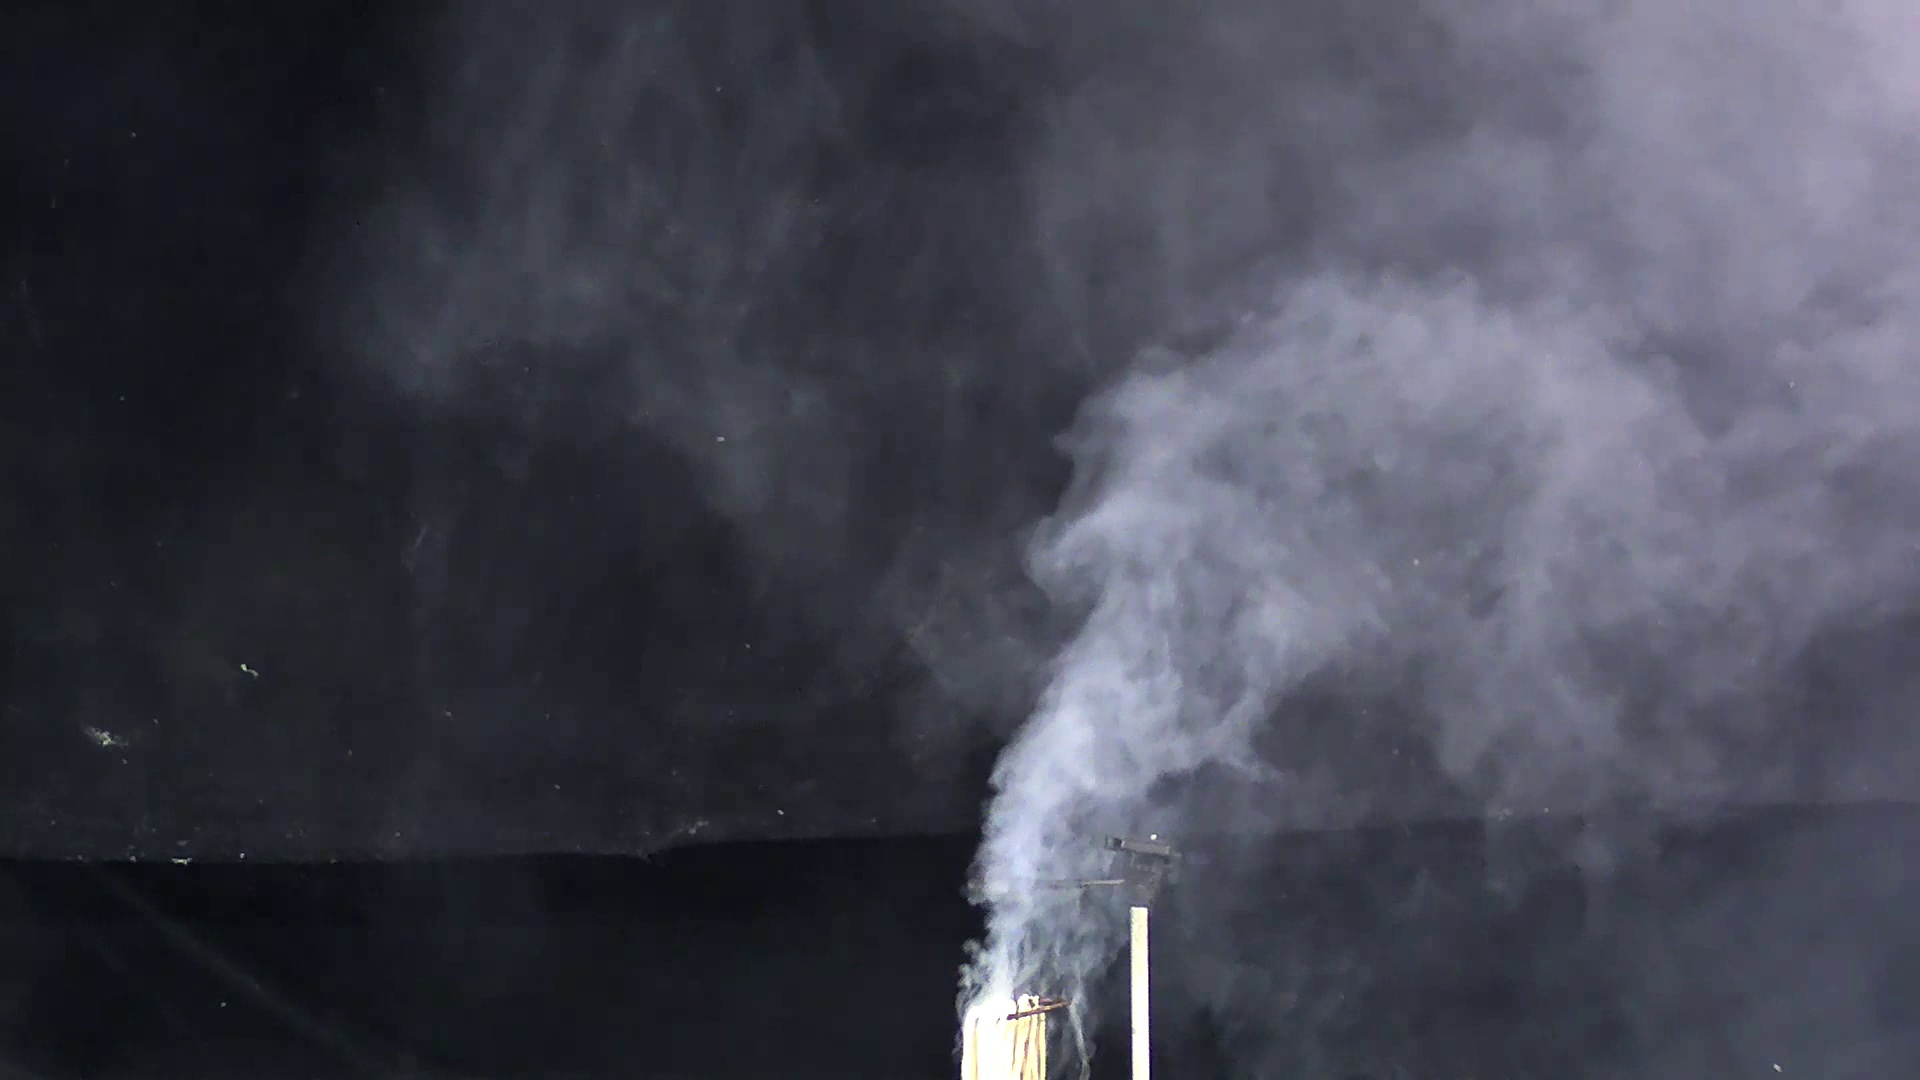smoke: (927, 216, 1782, 1004)
